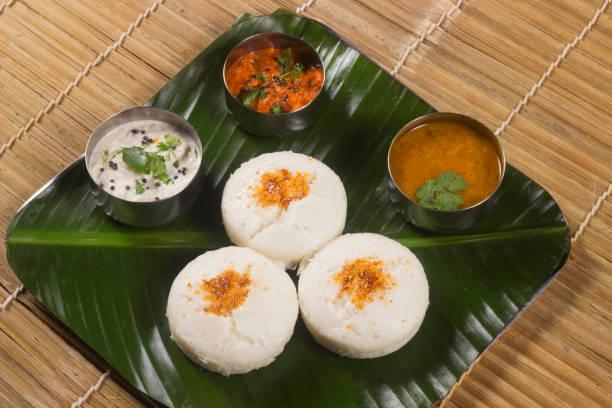coconut chutney: (87, 123, 200, 212)
idli: (175, 152, 418, 381)
sambhar: (393, 119, 503, 230)
